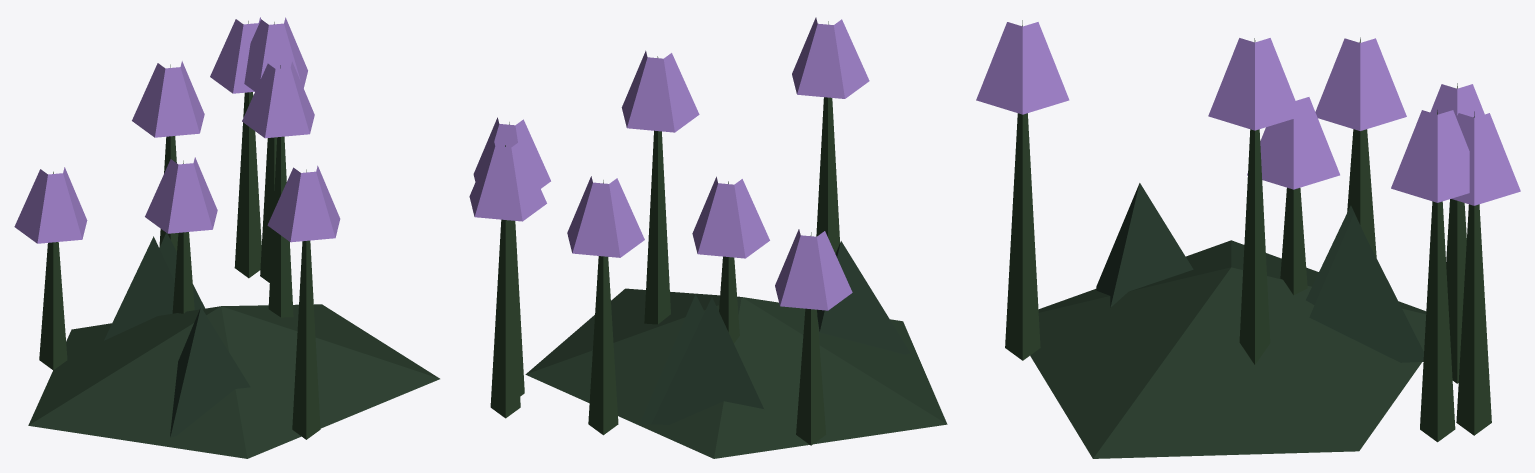
The model's file is glow_flowers.glb.
The picture shows the model from 3 angles, left to right: view 1: azimuth 30°, elevation 25°; view 2: azimuth 150°, elevation 25°; view 3: azimuth 270°, elevation 25°; orthographic projection. The views are drawn at different scales.
Visible parts, largest first — view 1: glow_flowers, Bells_glow; view 2: glow_flowers, Bells_glow; view 3: glow_flowers, Bells_glow.
Part boxes in pixels (box(x1,y1,x2,y2)): glow_flowers: box(28, 21, 439, 458); Bells_glow: box(14, 17, 340, 243); glow_flowers: box(490, 21, 947, 458); Bells_glow: box(469, 17, 869, 310); glow_flowers: box(1005, 20, 1491, 458); Bells_glow: box(976, 22, 1520, 205).
Size of the model in its own units: 0.6399 by 0.6138 by 0.6646.
